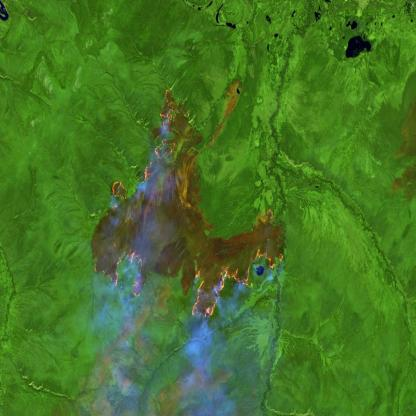fire: (93, 84, 286, 323)
